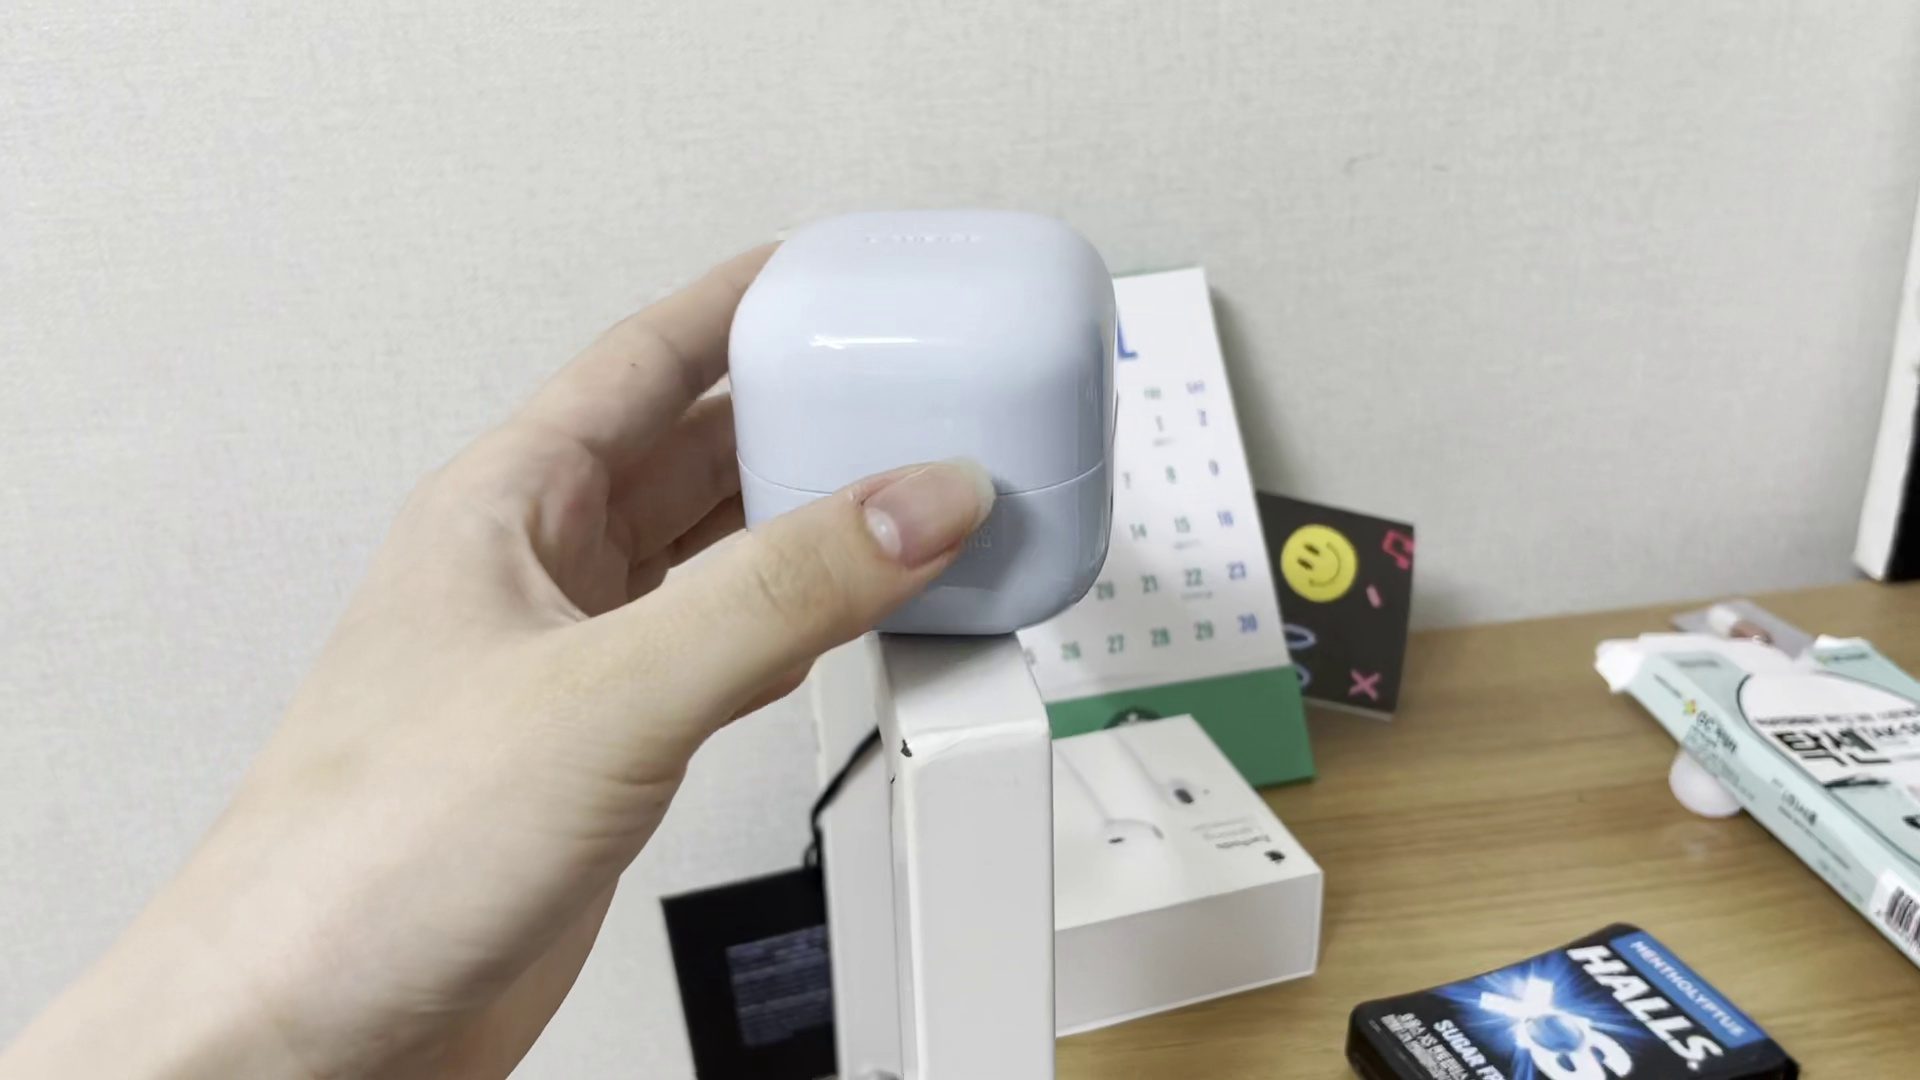cream: (735, 208, 1116, 632)
